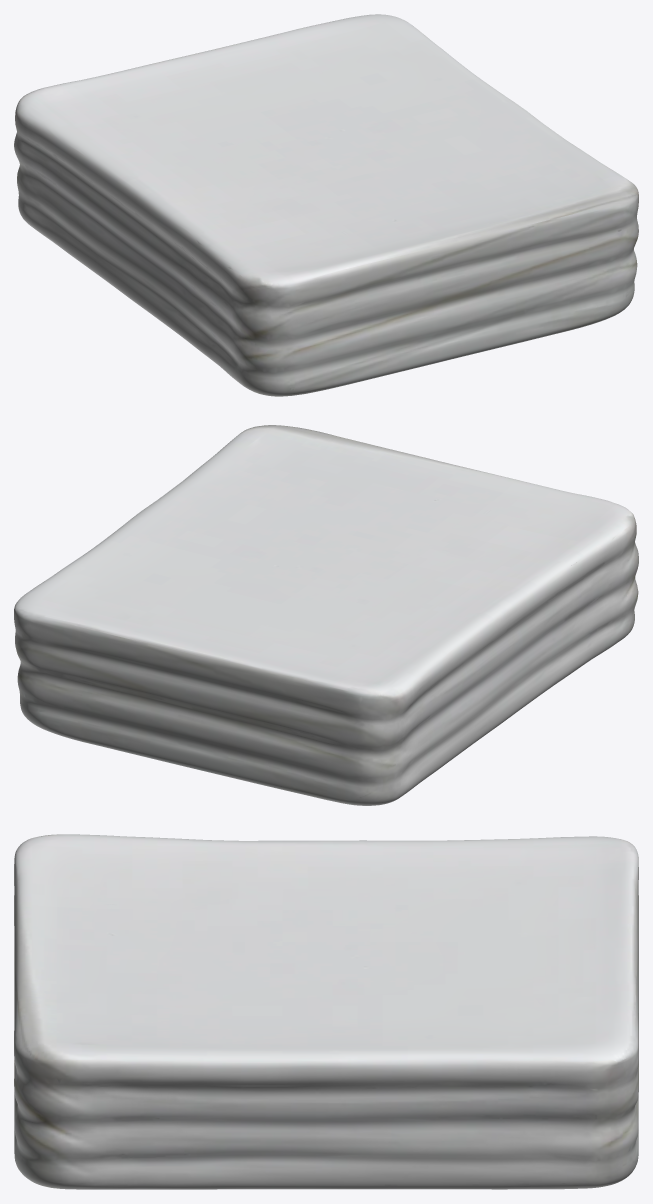
Rendered from cutting-board-stack.glb.
3 views of the same model, one above another, from view 1: azimuth 30°, elevation 25°; view 2: azimuth 150°, elevation 25°; view 3: azimuth 270°, elevation 25° (orthographic). The views are drawn at different scales.
Parts seen in each view (by area): view 1: cowninja-cutting-board-stack; view 2: cowninja-cutting-board-stack; view 3: cowninja-cutting-board-stack.
Part boxes in pixels (x1=…): cowninja-cutting-board-stack: x1=14, y1=14, x2=638, y2=396; cowninja-cutting-board-stack: x1=14, y1=425, x2=638, y2=805; cowninja-cutting-board-stack: x1=14, y1=834, x2=638, y2=1189.
Size of the model in its own units: 0.4349 by 0.1294 by 0.5.
1 material, 1 textured.
